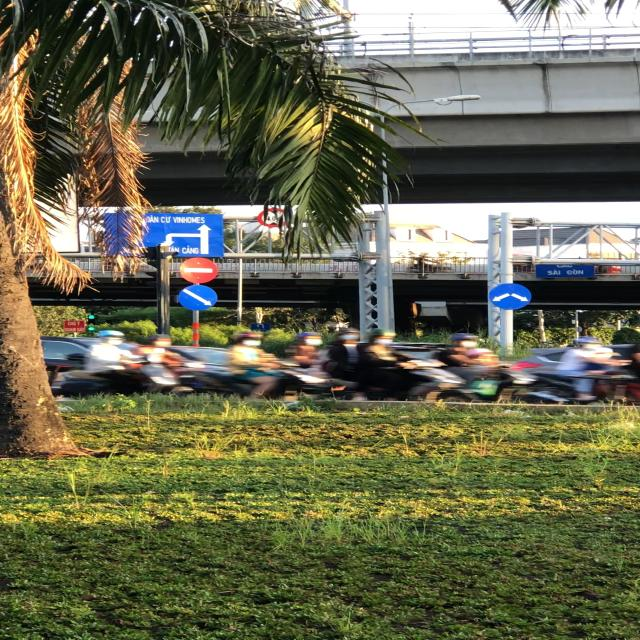Bien bao cam di nguoc chieu: (174, 256, 220, 285)
